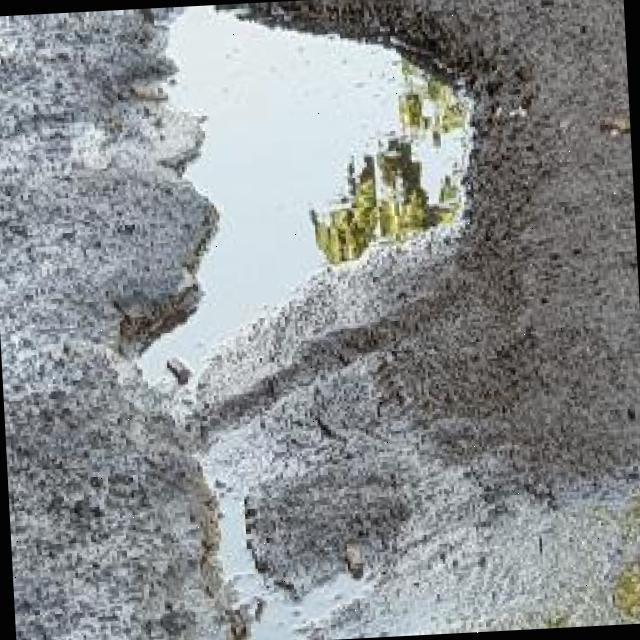stagnation: (77, 0, 529, 426)
